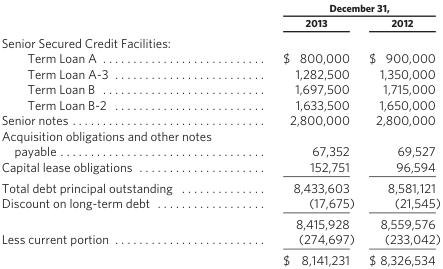table: (0, 0, 439, 266)
table column: (0, 0, 246, 266), (246, 0, 361, 266), (361, 0, 439, 266)
table column header: (0, 0, 439, 31)
table projected row header: (0, 31, 439, 49)
table row: (0, 127, 439, 158), (0, 31, 439, 49), (0, 158, 439, 176), (0, 176, 439, 194), (0, 194, 439, 212), (0, 212, 439, 230), (0, 230, 439, 248), (0, 248, 439, 266), (0, 14, 439, 31), (0, 49, 439, 65), (0, 80, 439, 96), (0, 111, 439, 127), (0, 65, 439, 80), (0, 96, 439, 111), (0, 0, 439, 14)
table spanning cell: (246, 0, 439, 14)
